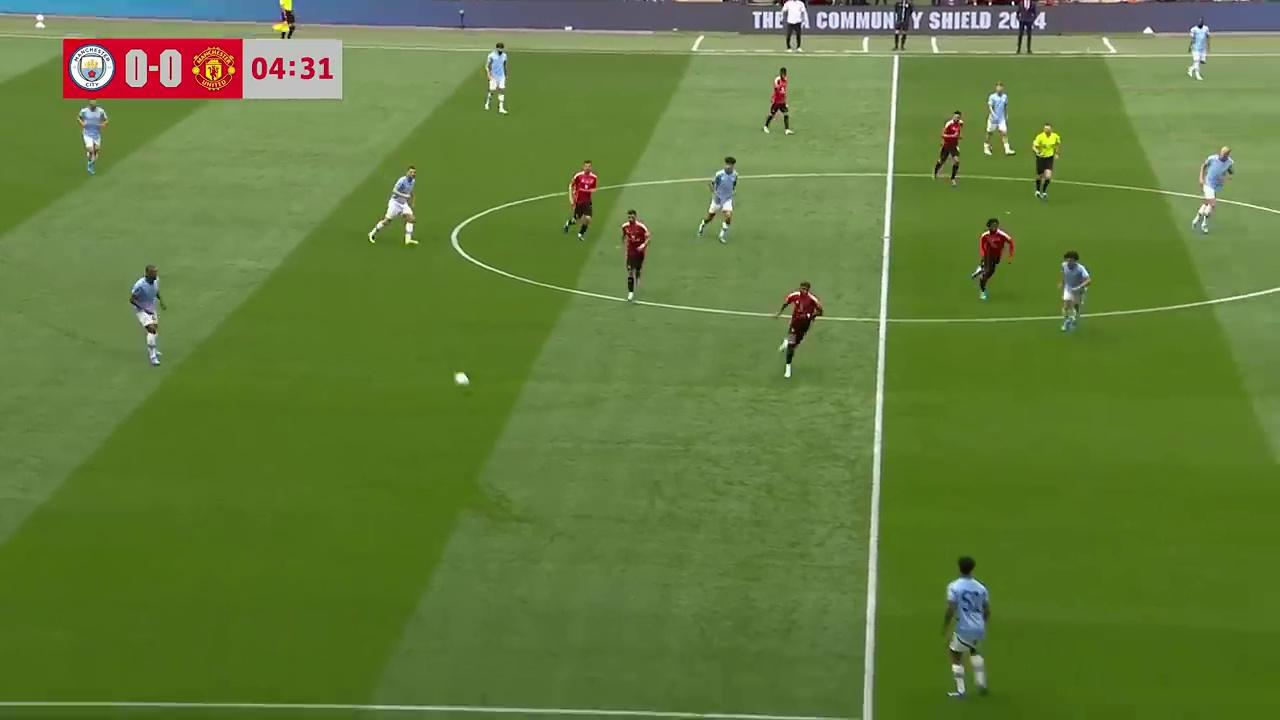ball: (452, 367, 471, 388)
player: (942, 556, 991, 701), (772, 280, 823, 377), (367, 167, 419, 245), (129, 265, 167, 367), (1192, 146, 1234, 234), (972, 217, 1015, 300), (698, 156, 738, 242), (619, 208, 650, 300), (564, 160, 598, 240), (1057, 250, 1090, 332), (77, 98, 108, 175), (983, 81, 1014, 156), (932, 110, 963, 185), (1032, 122, 1061, 200), (763, 66, 792, 135), (483, 41, 508, 114), (1186, 18, 1210, 80)
referee: (1032, 122, 1061, 202)
